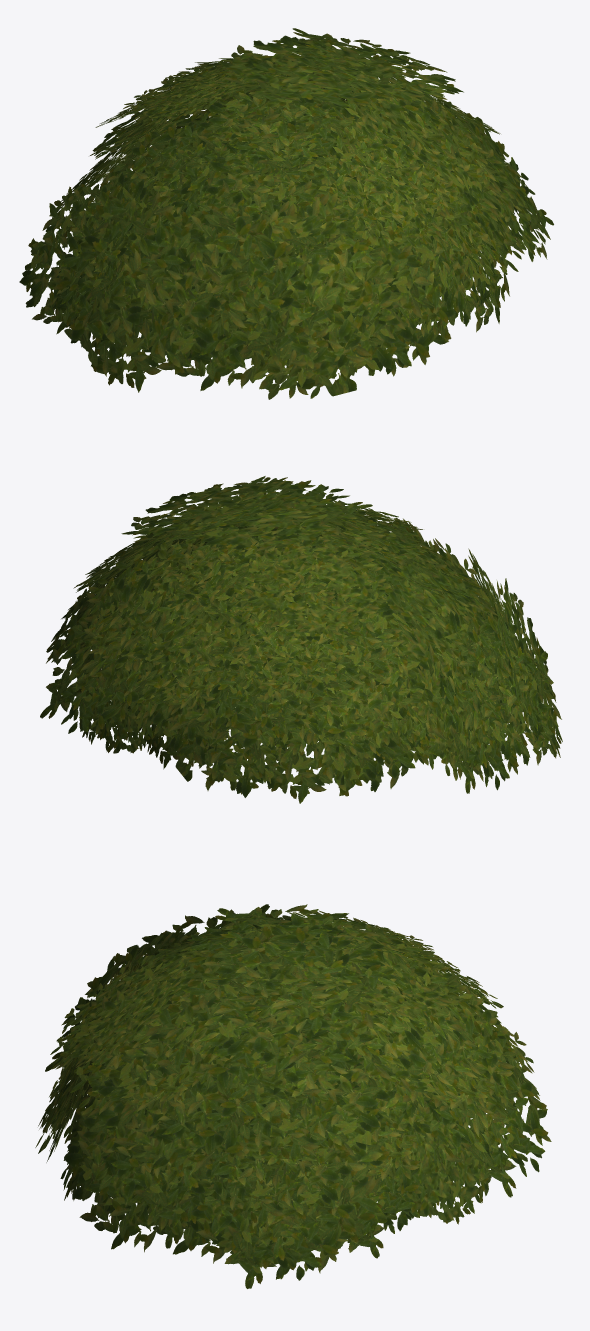
Rendered from bush.glb.
3 views of the same model, one above another, from view 1: azimuth 30°, elevation 25°; view 2: azimuth 150°, elevation 25°; view 3: azimuth 270°, elevation 25° (orthographic). The views are drawn at different scales.
Visible parts, largest first — view 1: bush; view 2: bush; view 3: bush.
Boxes of the visible parts, x1,y1,x2,y2 form: bush: (19,28,553,399); bush: (40,476,562,803); bush: (35,904,551,1288).
Bounding box in the file's own units: 2.76 × 1.44 × 2.37.
1 material, 1 textured.
